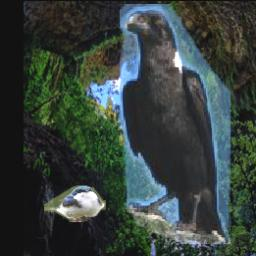Crow: (119, 5, 230, 245)
Swallow: (43, 186, 105, 223)
